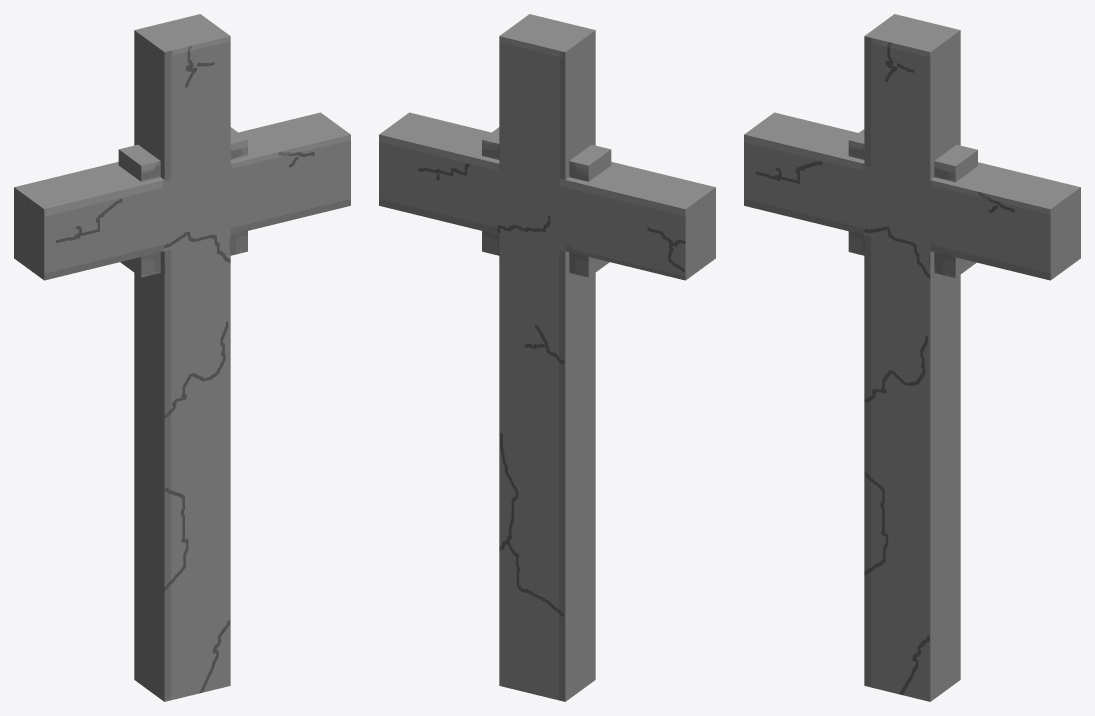
The model's file is Cruz_01.fbx.
The picture shows the model from 3 angles, left to right: view 1: azimuth 30°, elevation 25°; view 2: azimuth 150°, elevation 25°; view 3: azimuth 330°, elevation 25°; orthographic projection.
Parts seen in each view (by area): view 1: pCube12; view 2: pCube12; view 3: pCube12.
Part boxes in pixels (box(x1,y1,x2,y2)): pCube12: box(14, 14, 350, 701); pCube12: box(379, 14, 715, 701); pCube12: box(744, 14, 1080, 701).
Size of the model in its own units: 5.86 by 11.86 by 1.
1 material, 1 textured.
